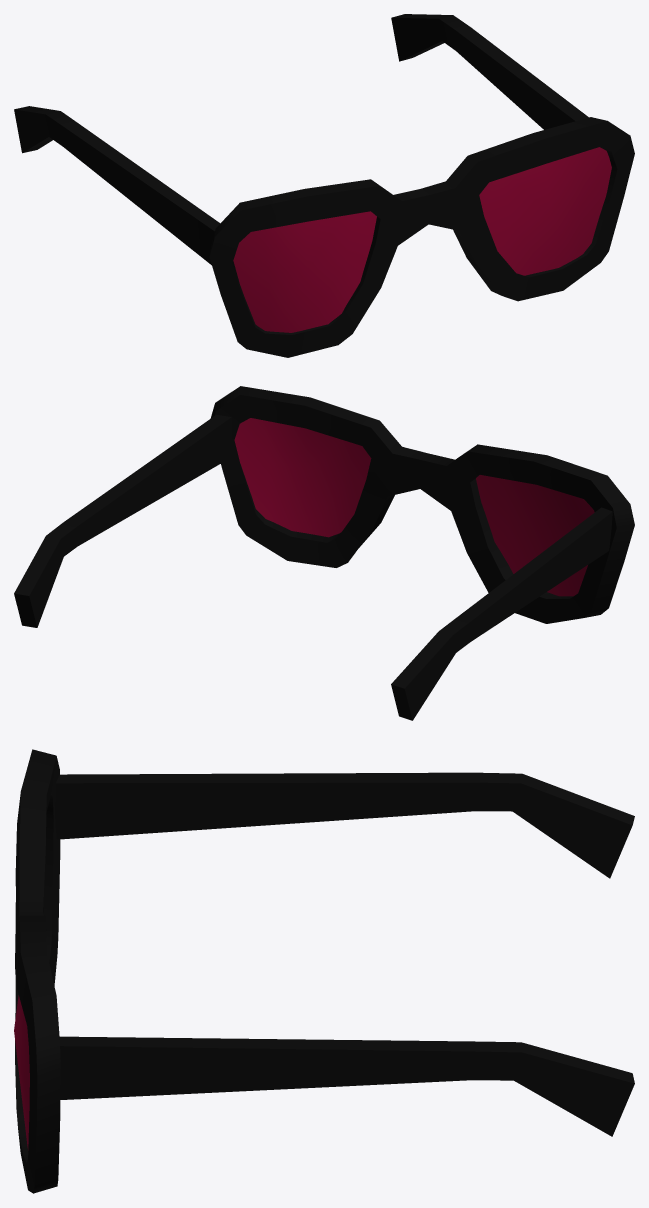
Rendered from Spects_1.FBX.
The picture shows the model from 3 angles, top to bottom: view 1: azimuth 30°, elevation 25°; view 2: azimuth 150°, elevation 25°; view 3: azimuth 270°, elevation 25°; orthographic projection. The views are drawn at different scales.
Parts seen in each view (by area): view 1: Head_dakskinned_final; view 2: Head_dakskinned_final; view 3: Head_dakskinned_final.
Part boxes in pixels (box(x1,y1,x2,y2)): Head_dakskinned_final: box(14, 14, 634, 357); Head_dakskinned_final: box(14, 386, 634, 720); Head_dakskinned_final: box(14, 749, 634, 1193).
Bounding box in the file's own units: 26.65 × 9.53 × 24.02.
